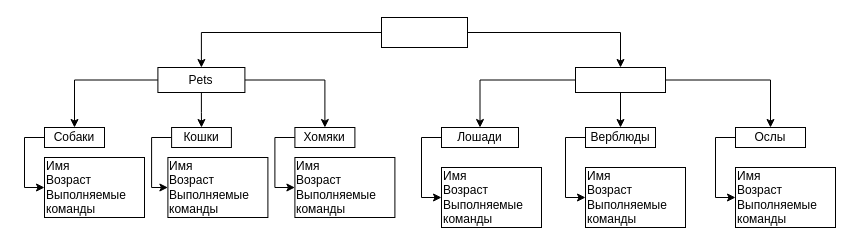
Some shapes in this 853 by 245 pixel diagram are drawn without their labels. The shapes that lost their labels are listed below. From the top down, each one's centre as x and y in pixels, then its label:
At point (424, 32): "Animal".
At point (620, 79): "Pack animals".
